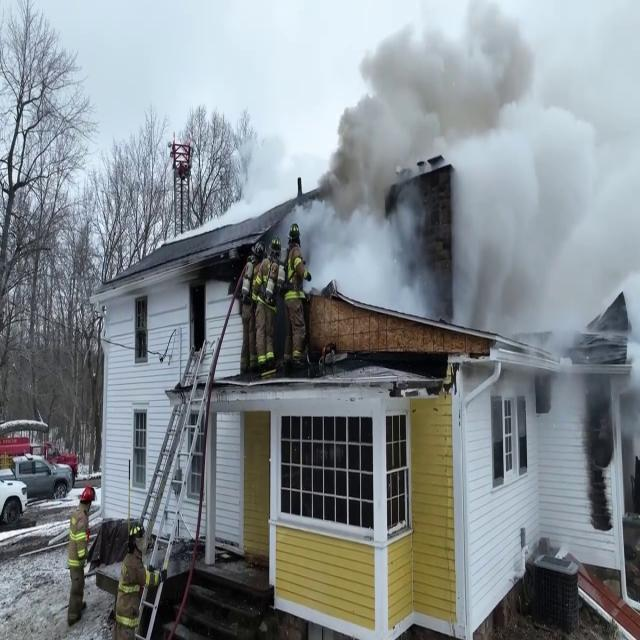Smoke: (313, 0, 638, 325)
